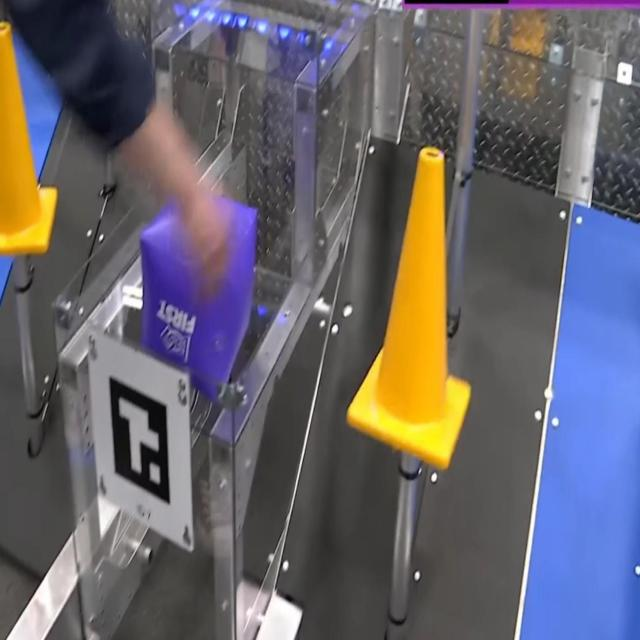frc_cone: (347, 147, 473, 473), (0, 18, 58, 258)
frc_cube: (139, 166, 256, 406)
